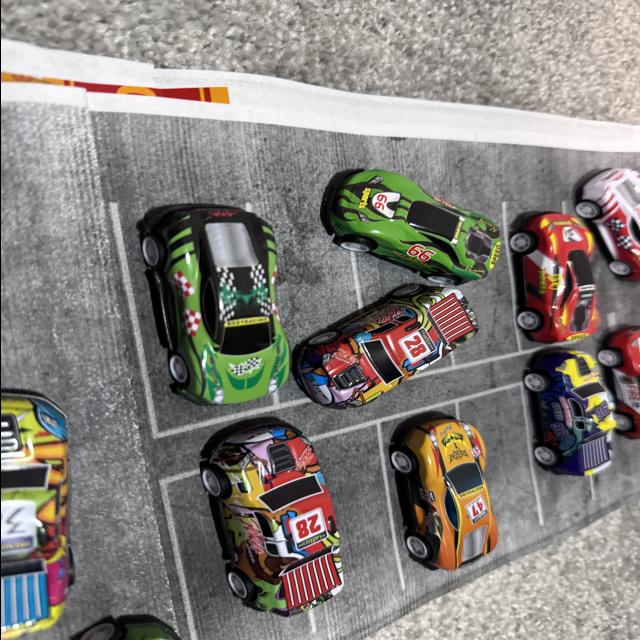car: (196, 421, 344, 624), (136, 206, 285, 402), (299, 290, 476, 404), (322, 166, 499, 278), (384, 422, 499, 574), (508, 212, 600, 340), (522, 358, 618, 452), (574, 172, 640, 278)
